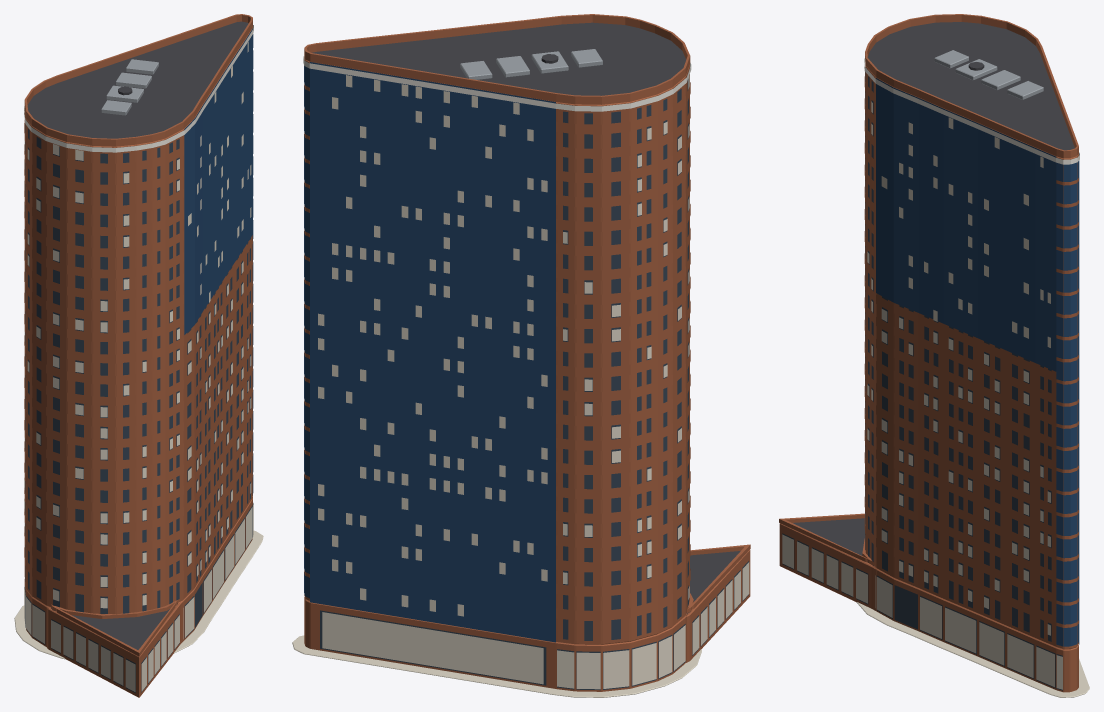
Rendered from 388-market-building.glb.
The picture shows the model from 3 angles, left to right: view 1: azimuth 30°, elevation 25°; view 2: azimuth 150°, elevation 25°; view 3: azimuth 270°, elevation 25°; orthographic projection. The views are drawn at different scales.
Parts seen in each view (by area): view 1: 388-market-building_body, 388-market-building_night_glow; view 2: 388-market-building_body, 388-market-building_night_glow; view 3: 388-market-building_body, 388-market-building_night_glow.
Part boxes in pixels (x1,y1,x2,y2): 388-market-building_body: (14, 14, 263, 697); 388-market-building_night_glow: (24, 25, 253, 692); 388-market-building_body: (292, 14, 750, 697); 388-market-building_night_glow: (303, 56, 749, 689); 388-market-building_body: (779, 14, 1089, 697); 388-market-building_night_glow: (782, 58, 1079, 689).
Size of the model in its own units: 64.75 by 112 by 58.14.
